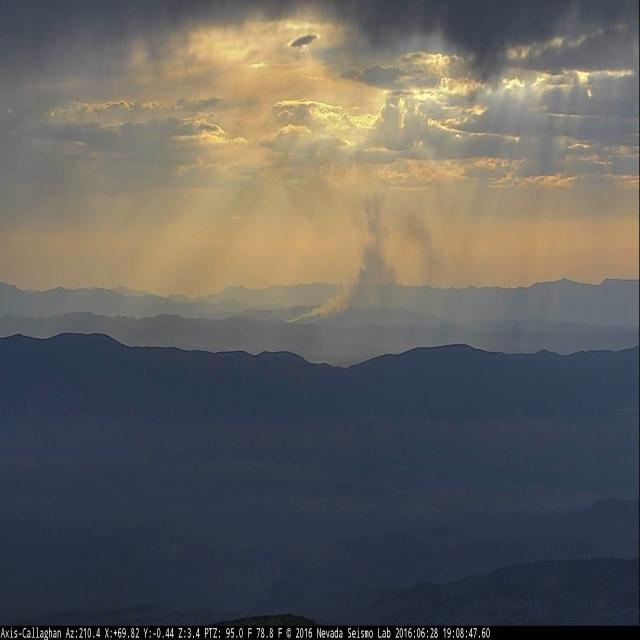smoke: (282, 189, 389, 328)
